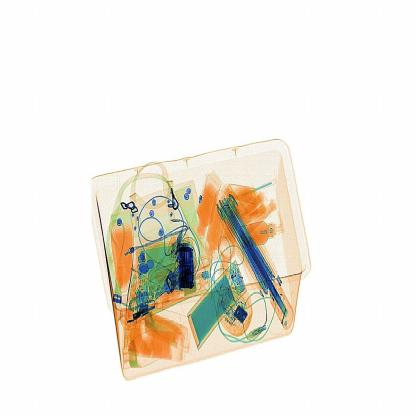scissors: (172, 234, 200, 294)
